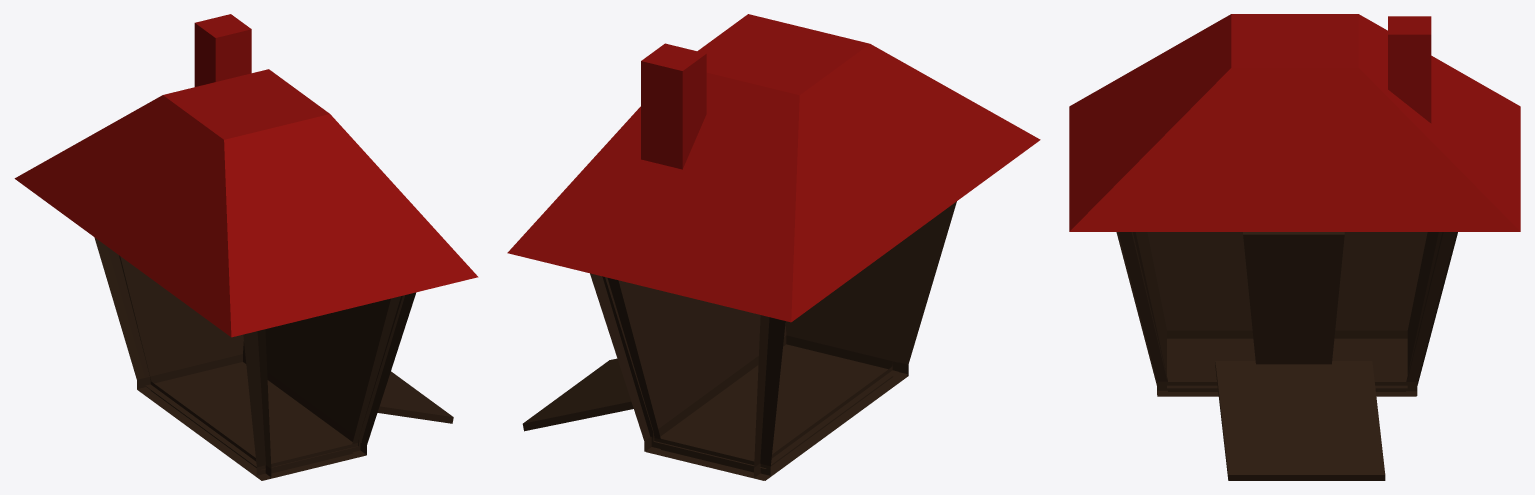
Rendered from house.obj.
3 renders of one model, left to right at view 1: azimuth 30°, elevation 25°; view 2: azimuth 150°, elevation 25°; view 3: azimuth 270°, elevation 25°, orthographic. The views are drawn at different scales.
Parts seen in each view (by area): view 1: Cube.001, Cube; view 2: Cube.001, Cube; view 3: Cube.001, Cube.
Part boxes in pixels (left/top/right/bottom): Cube.001: left=14, top=14, right=478, bottom=337; Cube: left=94, top=237, right=453, bottom=480; Cube.001: left=507, top=14, right=1040, bottom=322; Cube: left=522, top=201, right=956, bottom=480; Cube.001: left=1069, top=14, right=1520, bottom=231; Cube: left=1116, top=232, right=1457, bottom=480.
Size of the model in its own units: 5.63 by 6.64 by 7.09.
